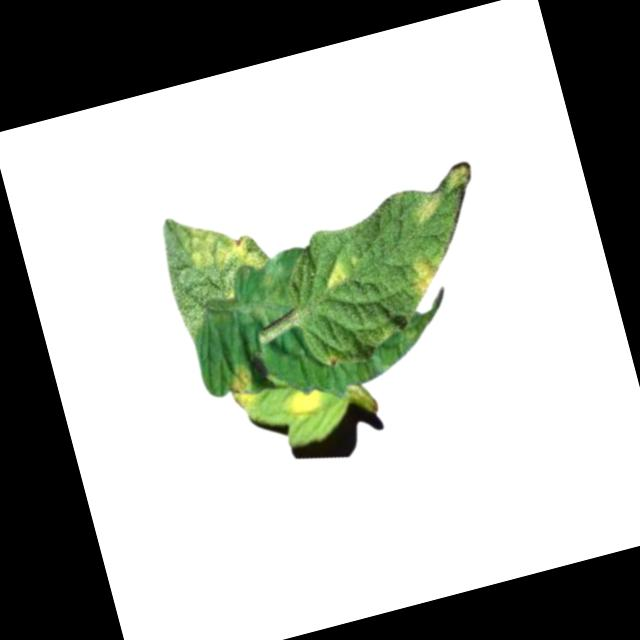Leaf_Mold: (185, 212, 266, 284), (219, 362, 261, 417), (276, 383, 328, 426), (404, 252, 448, 297), (316, 257, 355, 295), (444, 162, 476, 196), (413, 191, 443, 225)
